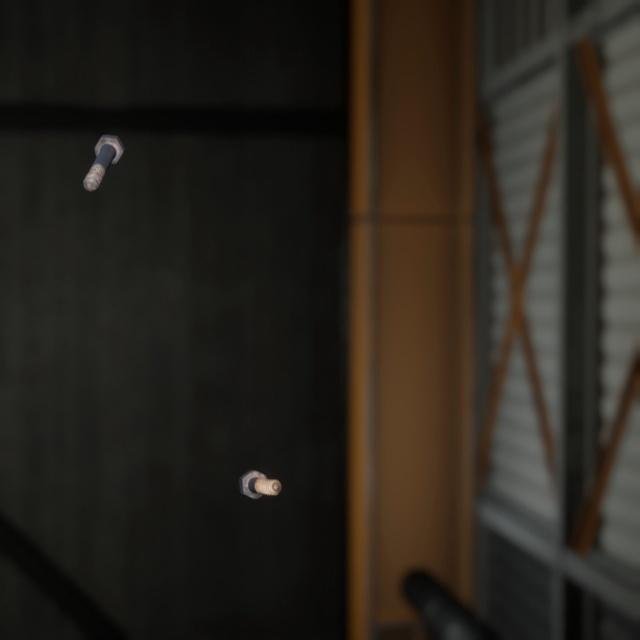bolt: (78, 117, 129, 182), (234, 444, 286, 482)
